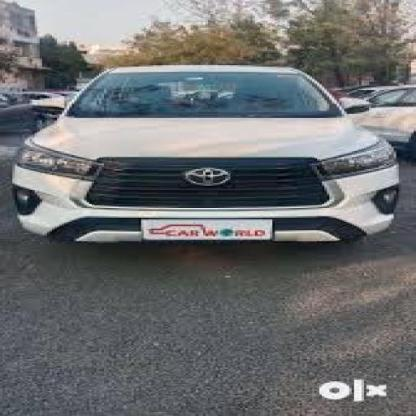car: (4, 58, 416, 271)
